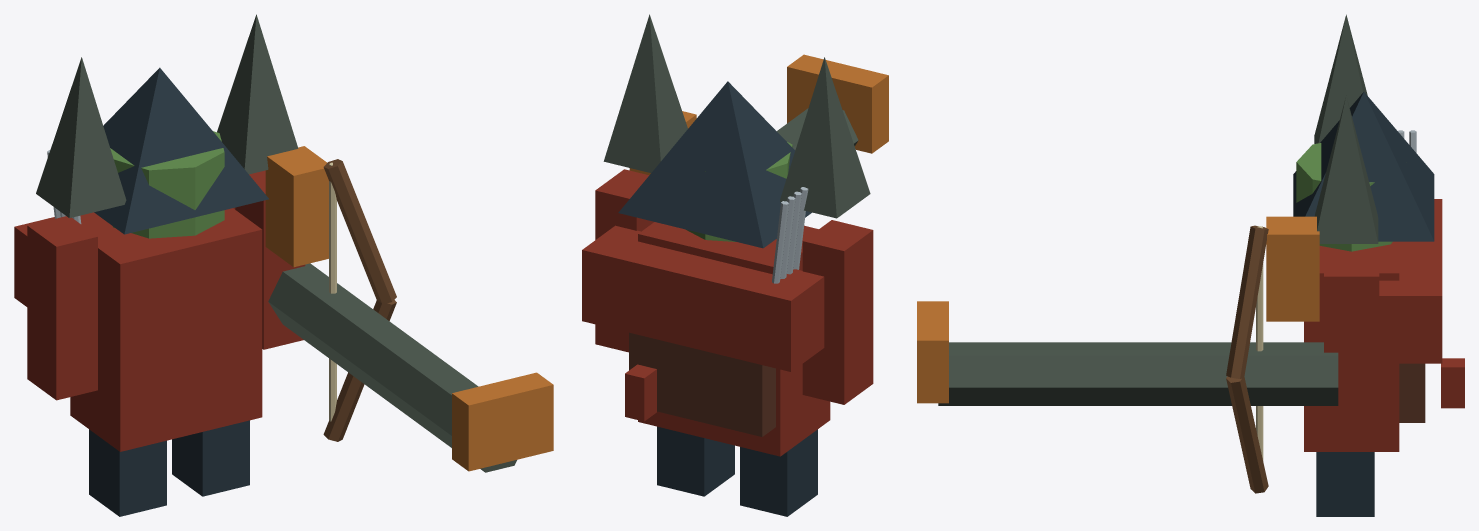
The model's file is gunner.obj.
The picture shows the model from 3 angles, left to right: view 1: azimuth 30°, elevation 25°; view 2: azimuth 150°, elevation 25°; view 3: azimuth 270°, elevation 25°; orthographic projection. The views are drawn at different scales.
Parts seen in each view (by area): view 1: ranged; view 2: ranged; view 3: ranged.
Part boxes in pixels (x1=…): ranged: x1=14, y1=14, x2=553, y2=516; ranged: x1=582, y1=14, x2=888, y2=516; ranged: x1=917, y1=14, x2=1464, y2=516.
Size of the model in its own units: 1.2 by 1.79 by 2.06.
